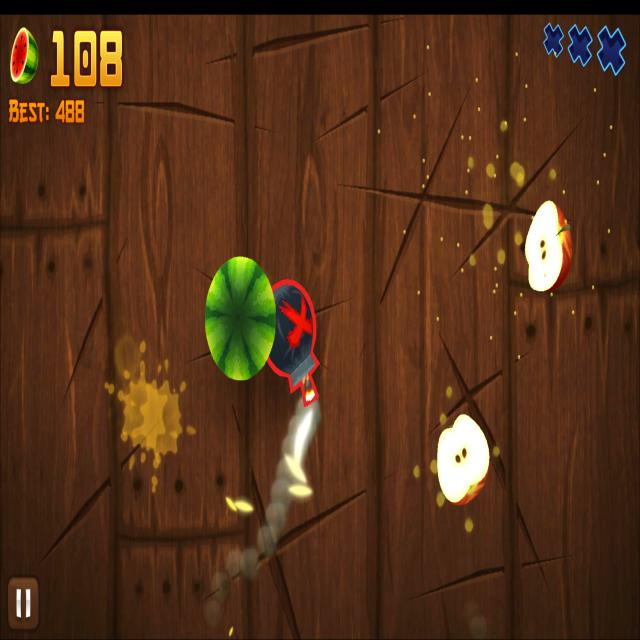bomb: (266, 278, 320, 407)
fruit: (206, 256, 276, 381)
